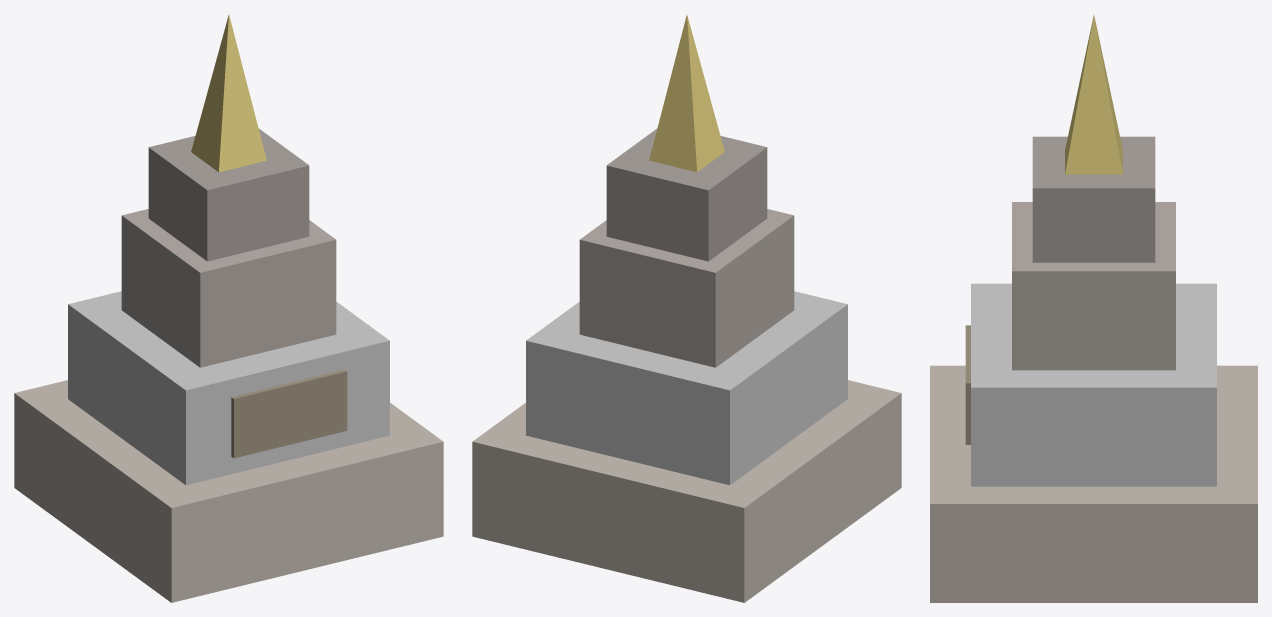
The model's file is pusaka_temple.glb.
3 renders of one model, left to right at view 1: azimuth 30°, elevation 25°; view 2: azimuth 150°, elevation 25°; view 3: azimuth 270°, elevation 25°, orthographic. The views are drawn at different scales.
Parts seen in each view (by area): view 1: base, body, upper, roof, relief, stupa; view 2: base, body, upper, roof, stupa; view 3: base, body, upper, roof, stupa, relief.
Boxes of the visible parts, left/top/right/bottom form: base: left=14, top=380, right=443, bottom=602; body: left=68, top=291, right=389, bottom=485; upper: left=121, top=209, right=336, bottom=367; roof: left=148, top=128, right=309, bottom=261; relief: left=231, top=369, right=347, bottom=458; stupa: left=191, top=15, right=266, bottom=172; base: left=472, top=380, right=901, bottom=602; body: left=526, top=291, right=847, bottom=485; upper: left=579, top=209, right=794, bottom=367; roof: left=606, top=128, right=767, bottom=261; stupa: left=649, top=15, right=724, bottom=172; base: left=930, top=365, right=1257, bottom=602; body: left=971, top=283, right=1216, bottom=486; upper: left=1012, top=202, right=1175, bottom=370; roof: left=1032, top=136, right=1155, bottom=262; stupa: left=1065, top=15, right=1122, bottom=174; relief: left=965, top=325, right=970, bottom=444.
Size of the model in its own units: 0.24 by 0.42 by 0.24.
